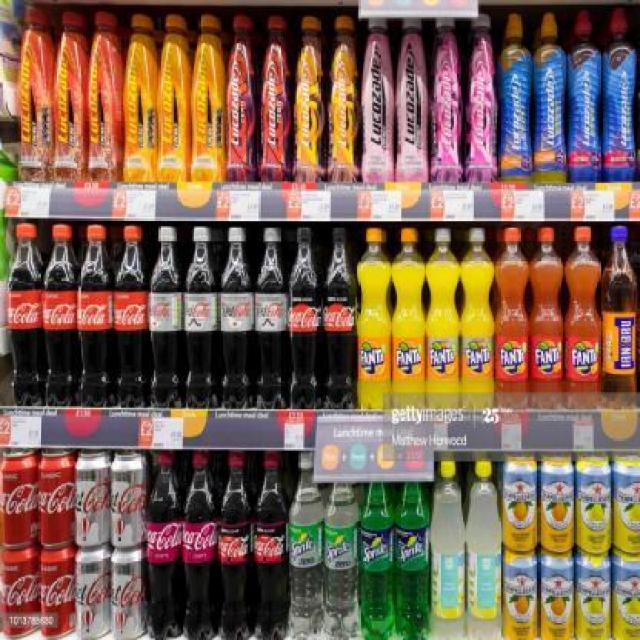Drinks: (145, 450, 184, 639), (182, 451, 220, 640), (394, 453, 431, 639), (218, 450, 254, 639), (359, 450, 395, 639), (289, 452, 325, 639), (8, 222, 44, 408), (149, 225, 185, 409), (78, 225, 114, 409), (255, 450, 290, 639), (324, 450, 359, 639), (529, 226, 565, 409), (219, 228, 255, 409), (44, 224, 79, 410), (184, 226, 219, 411), (255, 225, 290, 409), (114, 224, 149, 408), (565, 226, 600, 409), (494, 226, 529, 408), (322, 225, 356, 410), (357, 228, 391, 412), (460, 226, 494, 409), (426, 228, 460, 410), (392, 228, 426, 409), (290, 226, 322, 411), (38, 448, 76, 550), (1, 450, 39, 552), (112, 448, 150, 550), (38, 548, 77, 640), (76, 449, 112, 548), (1, 548, 39, 640), (76, 548, 113, 640), (112, 548, 148, 640)
